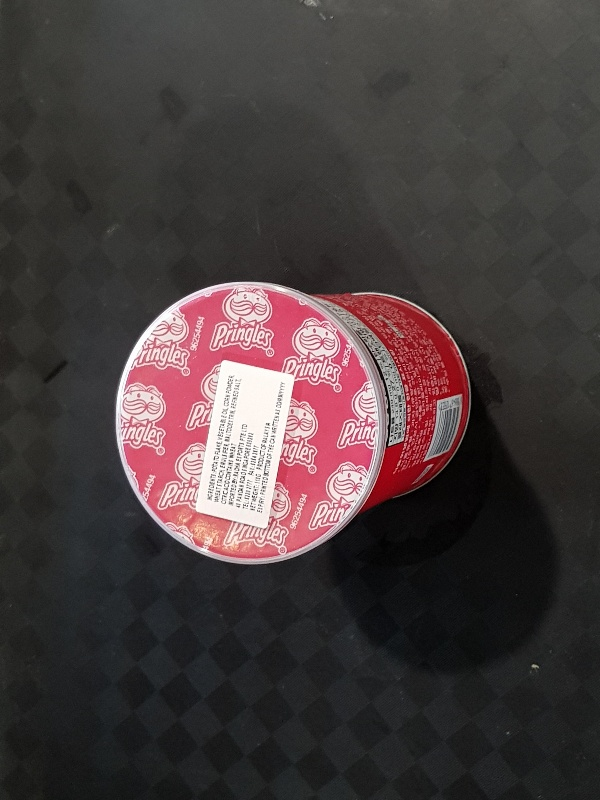Pringles Original: (112, 279, 474, 569)
